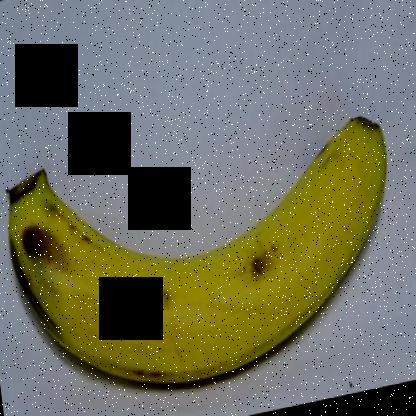freshripe: (1, 105, 396, 410)
